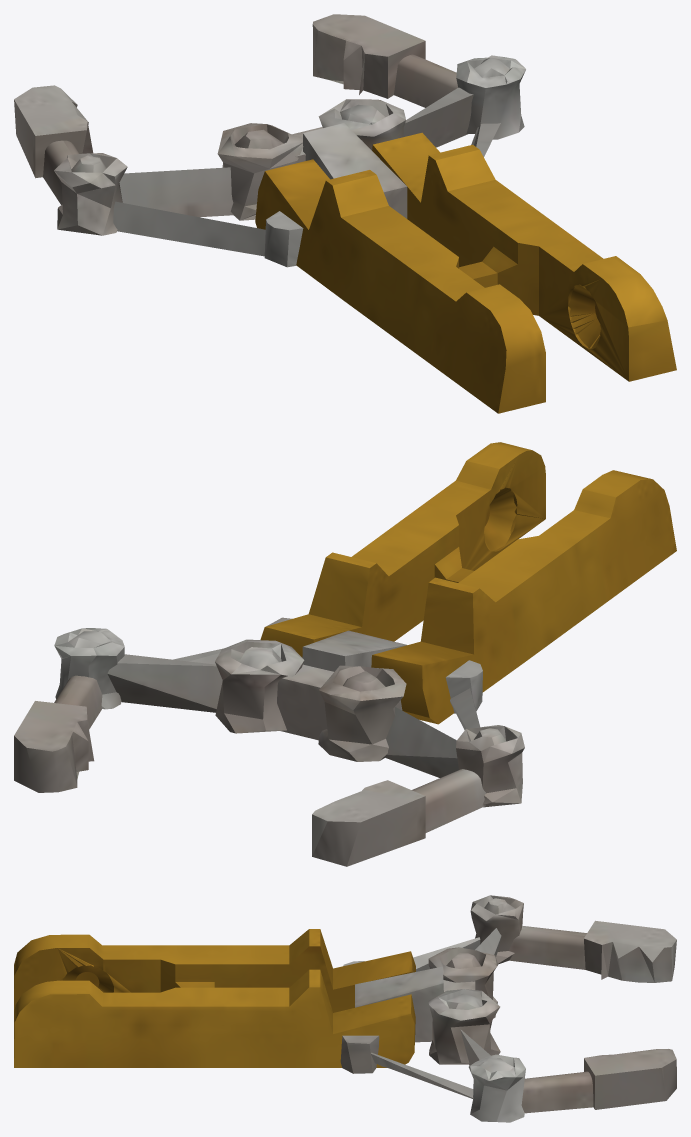
Rendered from inserter-arm-stack-hand-closed.glb.
3 renders of one model, top to bottom at view 1: azimuth 30°, elevation 25°; view 2: azimuth 150°, elevation 25°; view 3: azimuth 270°, elevation 25°, orthographic. The views are drawn at different scales.
Parts seen in each view (by area): view 1: body; view 2: body; view 3: body.
Part boxes in pixels (left/top/right/bottom): body: left=14, top=14, right=676, bottom=413; body: left=14, top=442, right=676, bottom=866; body: left=14, top=895, right=676, bottom=1122.
Size of the model in its own units: 0.6844 by 0.1294 by 1.04.
2 materials, 2 textured.
